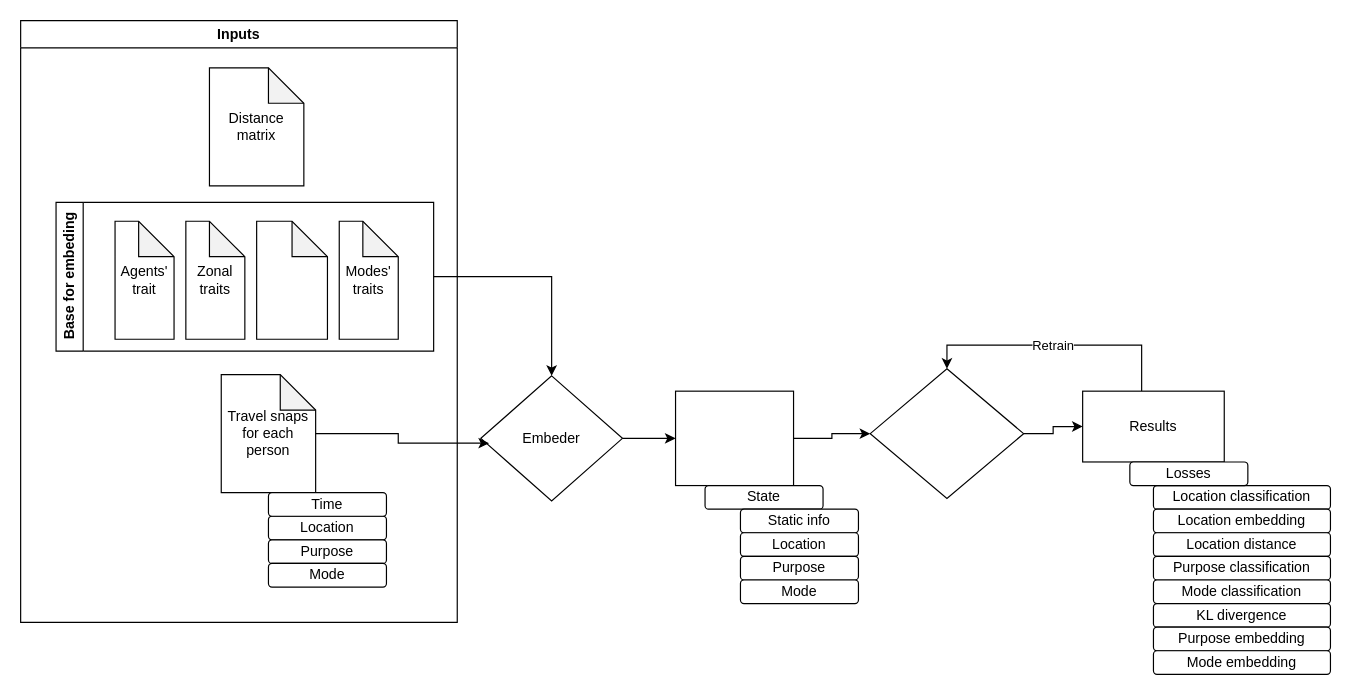
Some shapes in this 1351 by 695 pixel diagram are drawn without their labels. Here are the shapes that lost their labels. From the top down, the centre of each, then its label:
At point (291, 279): "Purposes' traits".
At point (734, 438): "Encoded tensor".
At point (946, 433): "Latent (VAE) SDE with attention Second-order".
